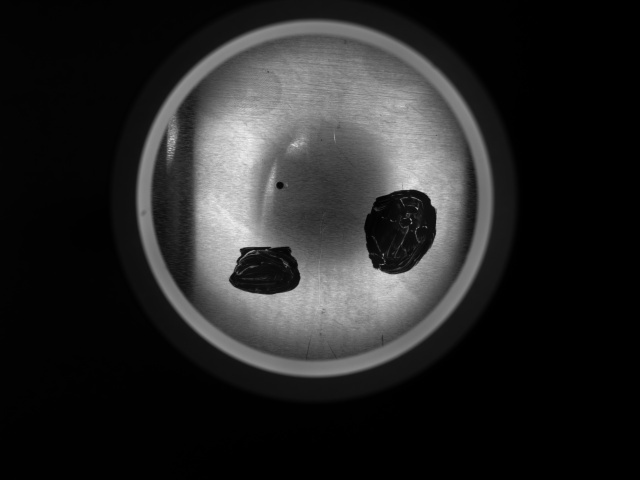zang_wu: (360, 188, 438, 276), (228, 243, 306, 296)
zhen_kong: (275, 178, 286, 193)
